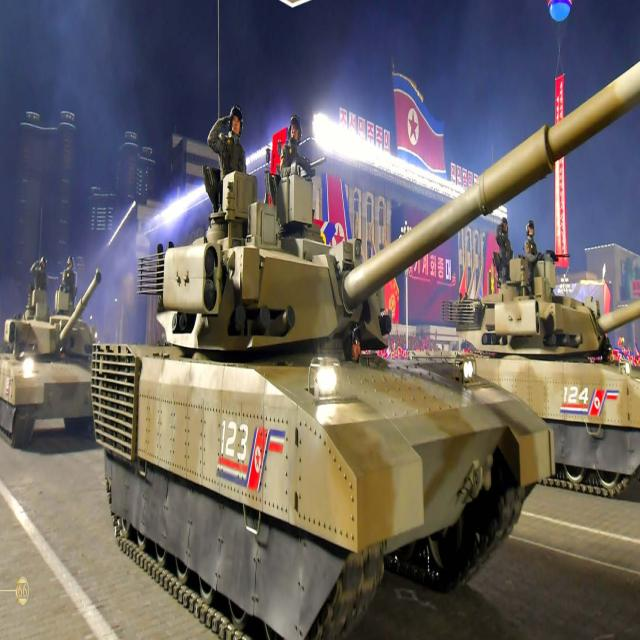north tank: (100, 167, 554, 640), (418, 156, 640, 640), (0, 171, 138, 506)
